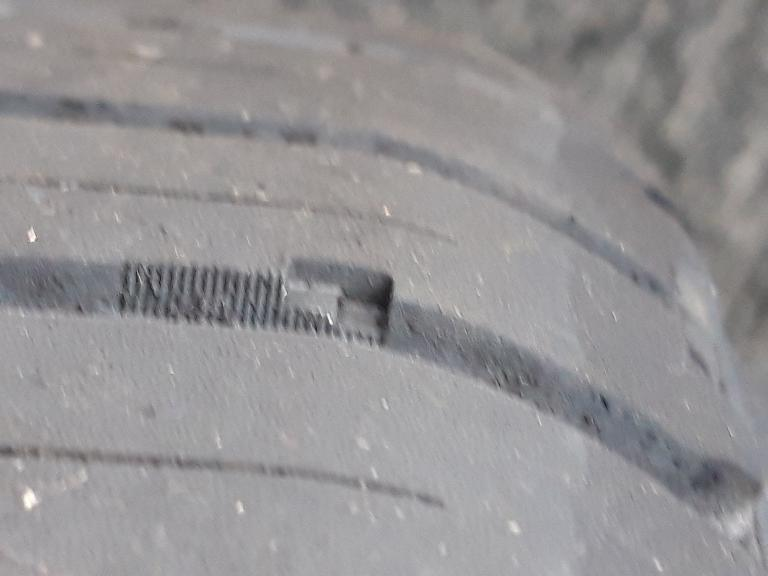temoin:50: (217, 244, 402, 356)
